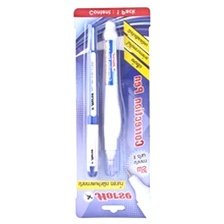book: (72, 4, 154, 220)
correction_fluid: (100, 19, 123, 179)
